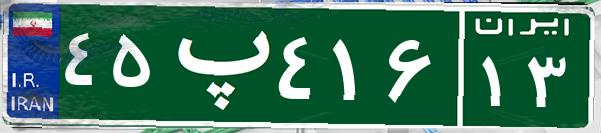1: (330, 28, 385, 110), (475, 38, 525, 113)
3: (525, 38, 570, 115)
4: (273, 28, 330, 110), (57, 26, 110, 107)
5: (110, 28, 158, 105)
6: (385, 28, 445, 110)
پ: (158, 15, 273, 115)
